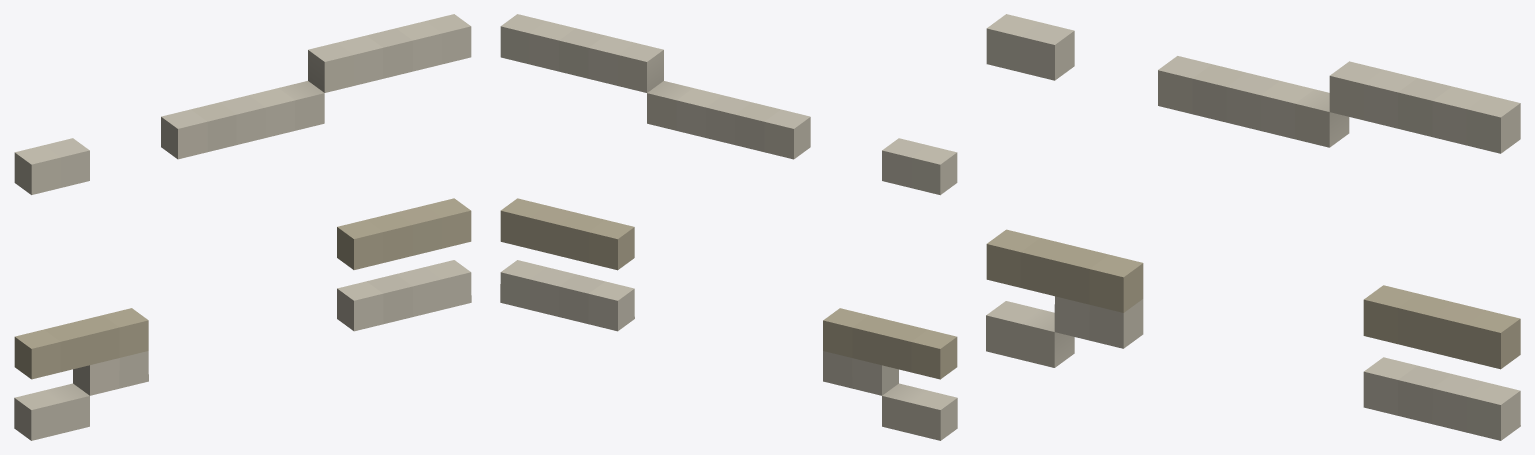
File: face_mummy.glb
3 views of the same model, side by side, from view 1: azimuth 30°, elevation 25°; view 2: azimuth 150°, elevation 25°; view 3: azimuth 330°, elevation 25° (orthographic). The views are drawn at different scales.
Parts seen in each view (by area): view 1: Face; view 2: Face; view 3: Face.
Boxes of the visible parts, left/top/right/bottom form: Face: left=14, top=14, right=471, bottom=440; Face: left=500, top=14, right=957, bottom=440; Face: left=986, top=14, right=1520, bottom=440.
Bounding box in the file's own units: 1.65 × 1.1 × 0.1104.
